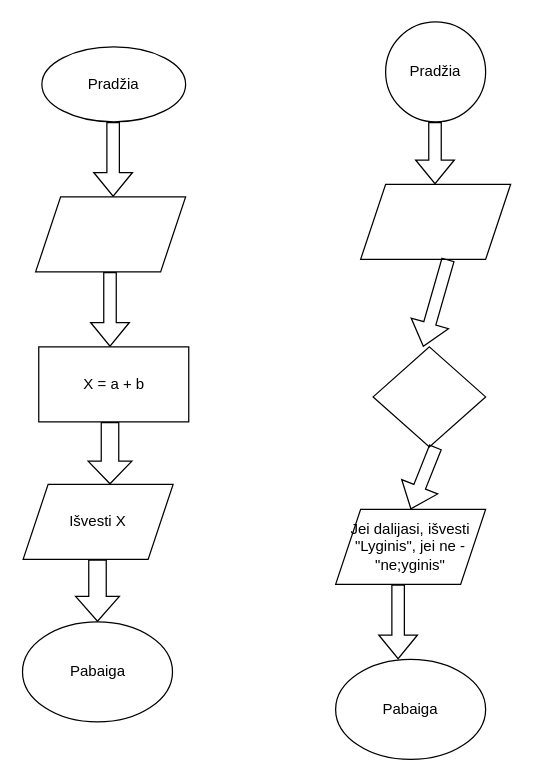
This 533x781 diagram has some shape labels left out. The box of each missing label's shape, as (x1, y1, x2, y2) in pixels:
Patikrinti ar a/2: (372, 346, 486, 447)
Įvesti a: (359, 183, 511, 259)
Įvesti a, b: (34, 196, 186, 272)
